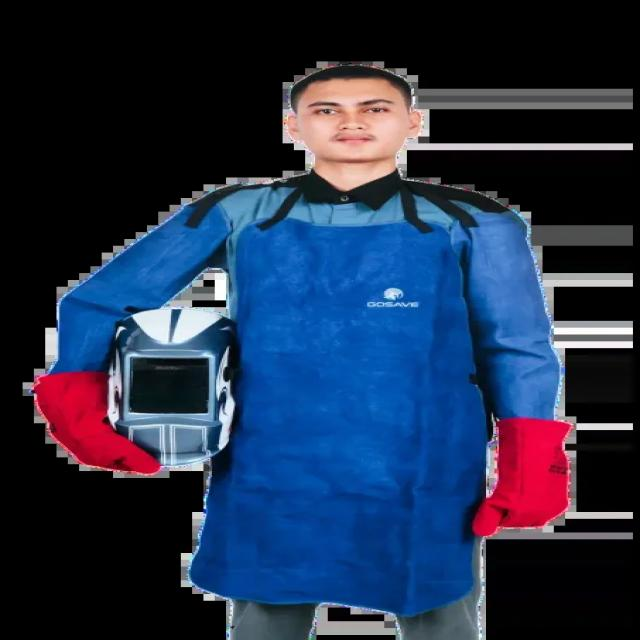gloves: (22, 379, 179, 480), (493, 422, 575, 527)
